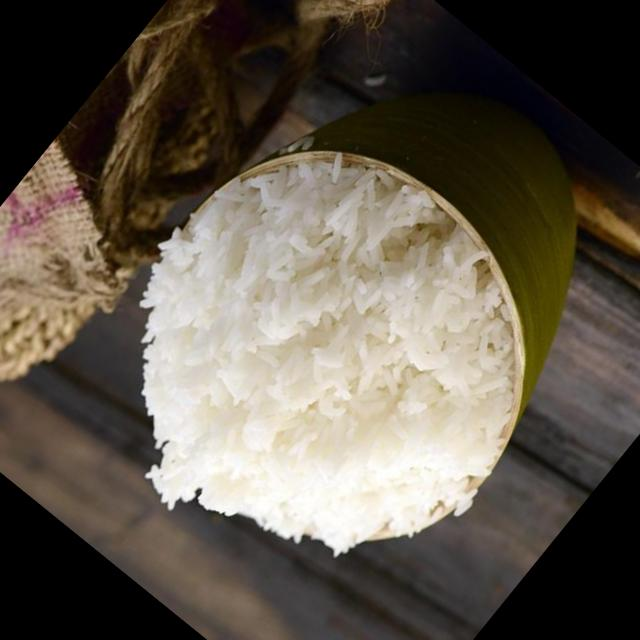rice: (142, 160, 513, 552)
